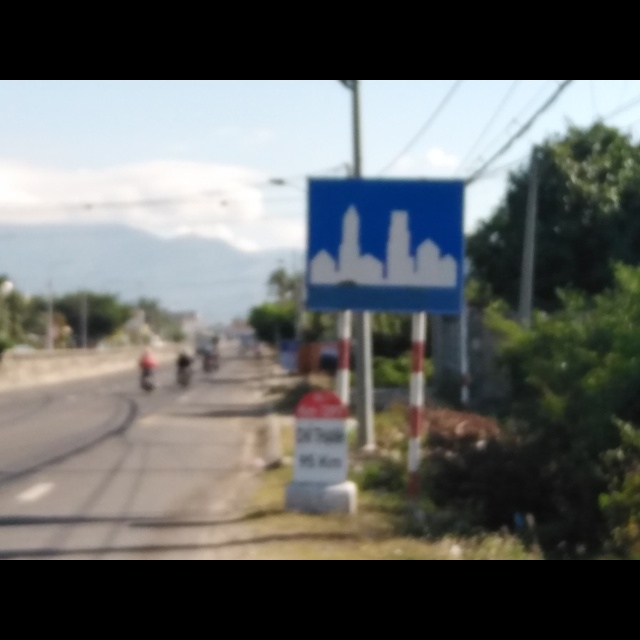Khu đông dân cư: (302, 172, 468, 321)
